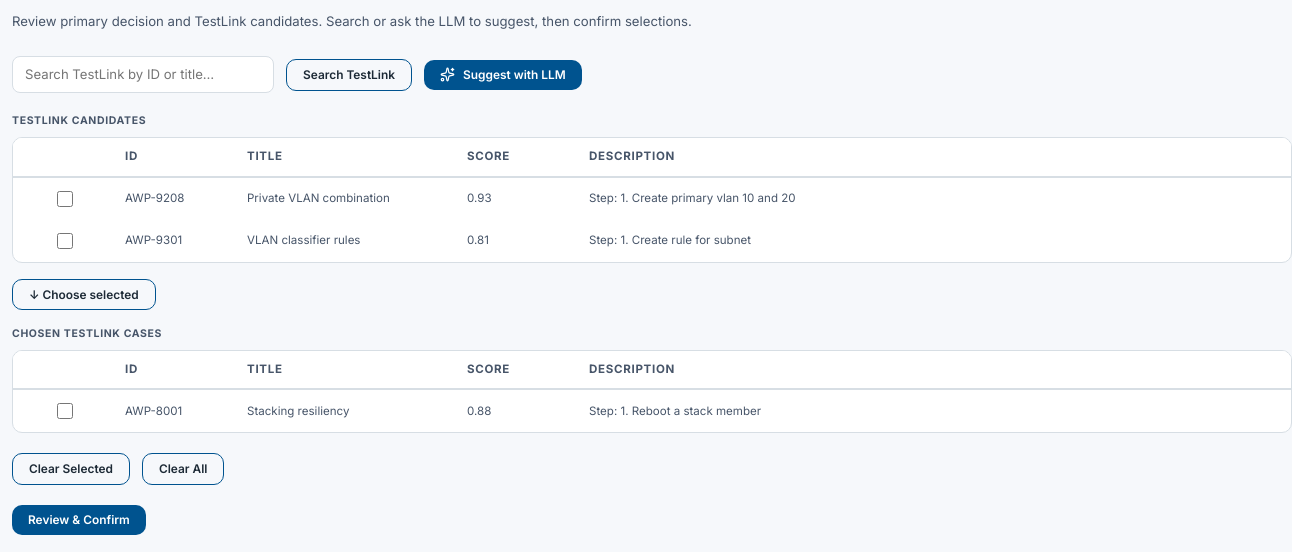
Scenario: OgCandidatePicker › suggest with LLM › leaves out suggestions that are already chosen
Click the button "Suggest with LLM": x=503, y=75 left=424, top=60, right=582, bottom=90
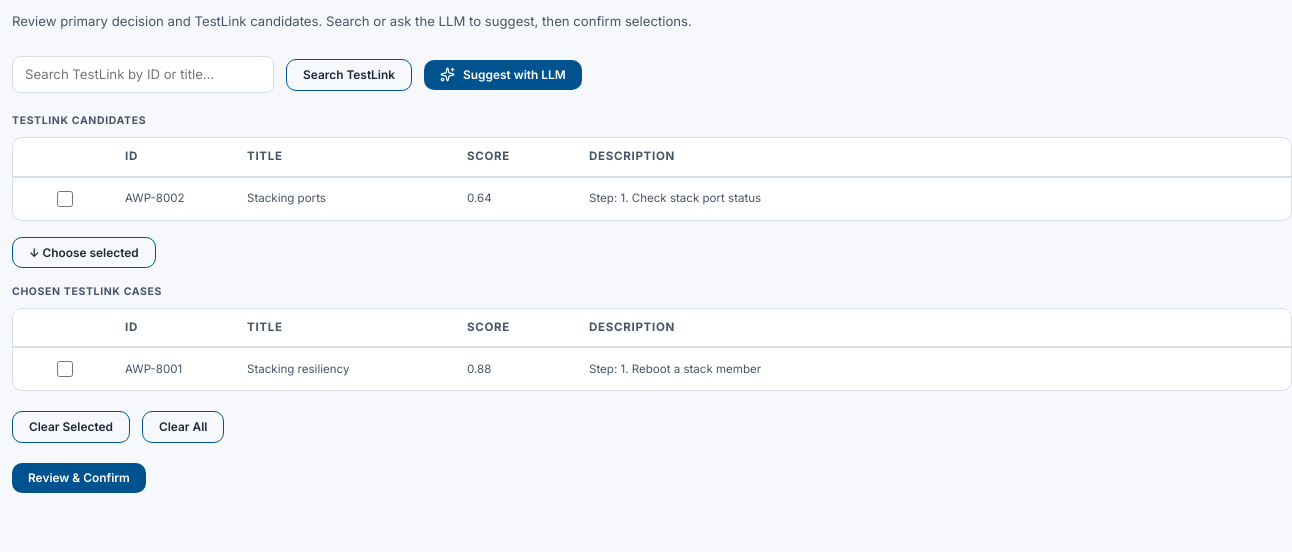
Check: the text "AWP-8001" is shown, box left=125, top=362, right=182, bottom=376
Check: the text "AWP-8002" is shown, box left=125, top=191, right=185, bottom=205
